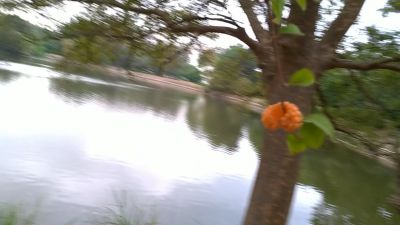eggs: (261, 100, 303, 132)
